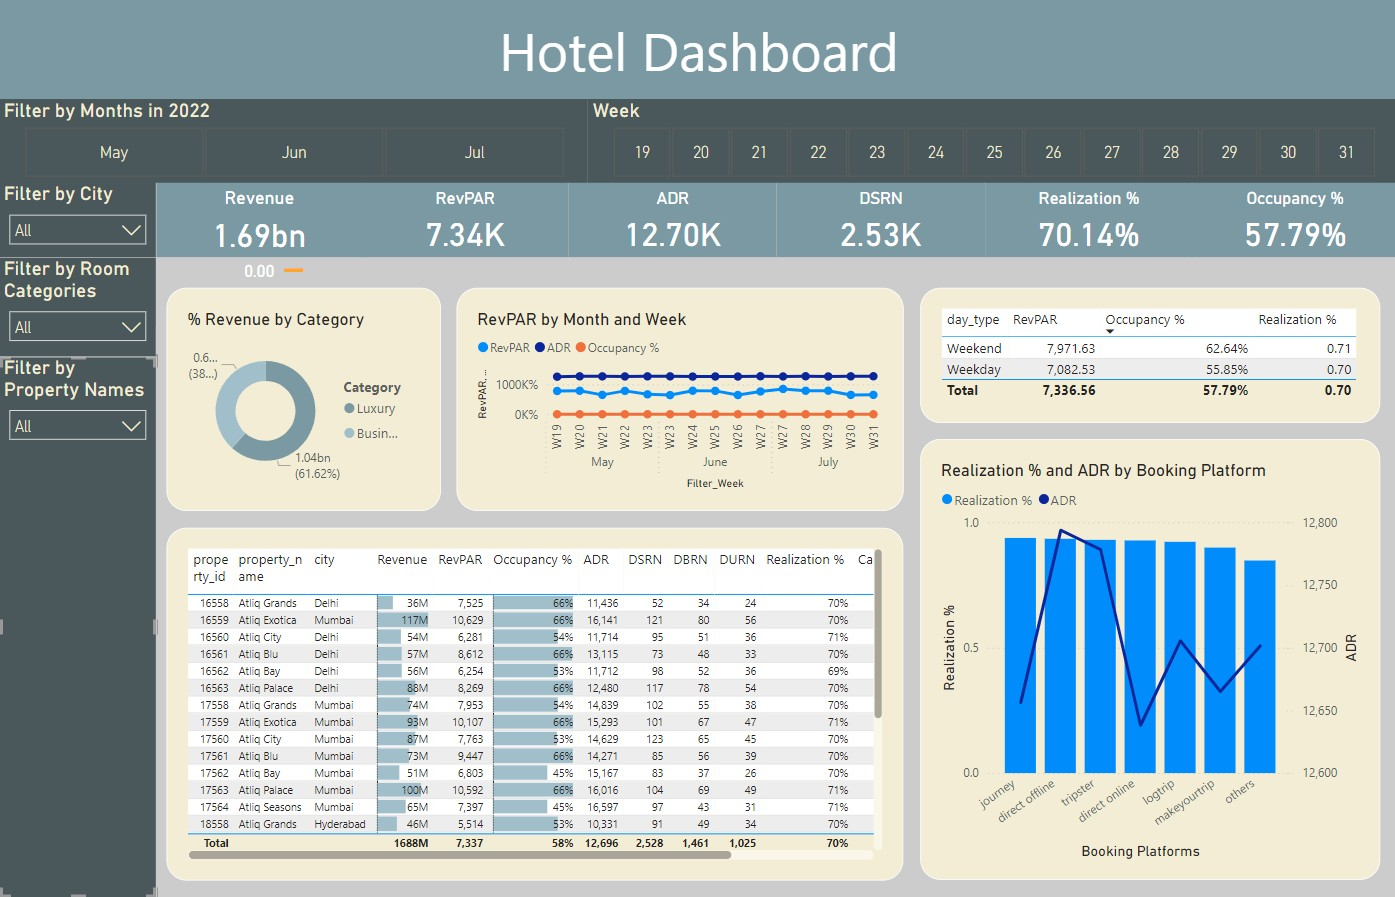

This screenshot's page, from the dashboard's own definition file:
{"tool":"powerbi","page":{"name":"Dashboard","canvas":[1400,900],"ordinal":0},"visuals":[{"type":"tableEx","fields":{"Values":["dim_hotel.property_id","dim_hotel.property_name","dim_hotel.city","key_measure.Revenue","key_measure.RevPar","key_measure.Occupancy %","key_measure.ADR","key_measure.DSRN","key_measure.DBRN","key_measure.DURN","key_measure.Realization %","key_measure.Cancellation %"]},"box":[167.1,528.6,737.1,352.9],"z":0},{"type":"slicer","title":"Filter by Property Names","fields":{"Values":["dim_hotel.property_name"]},"box":[0,357.1,157.1,542.9],"z":1000},{"type":"slicer","title":"Filter by Room Categories","fields":{"Values":["dim_rooms.room_class"]},"box":[0,258.6,157.1,98.6],"z":2000},{"type":"slicer","title":"Filter by Months in 2022","fields":{"Values":["dim_date.mmm yy"]},"box":[0,100,588.6,84.3],"z":3000},{"type":"card","title":"Revenue","fields":{"Values":["key_measure.Revenue"]},"box":[157.1,184.3,205.7,74.3],"z":4000},{"type":"slicer","title":"Week","fields":{"Values":["dim_date.week_n"]},"box":[588.6,100,811.4,84.3],"z":5000},{"type":"card","fields":{"Values":["key_measure.Revenue WoW Change %"]},"box":[157.1,258.6,205.7,27.1],"z":6000},{"type":"slicer","title":"Filter by City","fields":{"Values":["dim_hotel.city"]},"box":[0,184.3,157.1,74.3],"z":7000},{"type":"card","fields":{"Values":["key_measure.Icon Revenue Wow"]},"box":[280,255.7,30,30],"z":8000},{"type":"donutChart","title":"% Revenue by Category","fields":{"Category":["dim_hotel.category"],"Y":["key_measure.Revenue"]},"box":[167.1,288.6,274.3,222.9],"z":9000},{"type":"card","title":"RevPAR","fields":{"Values":["key_measure.RevPAR"]},"box":[362.9,184.3,207.1,74.3],"z":10000},{"type":"card","title":"Occupancy %","fields":{"Values":["key_measure.Occupancy %"]},"box":[1192.9,184.3,207.1,74.3],"z":11000},{"type":"card","title":"DSRN","fields":{"Values":["key_measure.DSRN"]},"box":[777.1,184.3,208.6,74.3],"z":12000},{"type":"card","title":"ADR","fields":{"Values":["key_measure.ADR"]},"box":[570,184.3,207.1,74.3],"z":13000},{"type":"card","title":"Realization %","fields":{"Values":["key_measure.Realization %"]},"box":[985.7,184.3,207.1,74.3],"z":14000},{"type":"shape","box":[0,0,1400,100],"z":15000},{"type":"lineChart","title":"RevPAR by Month and Week","fields":{"Category":["dim_date.mmm yy.Variation.Date Hierarchy.Month","dim_date.Filter_Week"],"Y":["key_measure.RevPAR","key_measure.ADR","key_measure.Occupancy %"]},"box":[457.1,288.6,447.1,222.9],"z":16000},{"type":"lineStackedColumnComboChart","title":"Realization % and ADR by Booking Platform","fields":{"Category":["fact_bookings.booking_platform"],"Y":["key_measure.Realization %"],"Y2":["key_measure.ADR"]},"box":[921.2,492.5,460,388.8],"z":17000},{"type":"barChart","title":"Occupancy % by City","fields":{"Category":["dim_hotel.city"],"Y":["key_measure.Occupancy %"]},"box":[921.2,288.8,460,186.2],"z":18000},{"type":"image","box":[22.5,11.2,76.2,77.5],"z":24000}]}

Visuals, with their boxes in screenshot pixels (x1, y1, x2, y2), scaled from the page's 1400x900 canvas onto the 1395x897 screenshot:
tableEx - dim_hotel.property_id x dim_hotel.property_name: [167, 527, 901, 879]
"Filter by Property Names" slicer: [0, 356, 157, 896]
"Filter by Room Categories" slicer: [0, 258, 157, 356]
"Filter by Months in 2022" slicer: [0, 100, 586, 184]
"Revenue" card: [157, 184, 362, 258]
"Week" slicer: [586, 100, 1394, 184]
card - key_measure.Revenue WoW Change %: [157, 258, 362, 285]
"Filter by City" slicer: [0, 184, 157, 258]
card - key_measure.Icon Revenue Wow: [279, 255, 309, 285]
"% Revenue by Category" donutChart: [167, 288, 440, 510]
"RevPAR" card: [362, 184, 568, 258]
"Occupancy %" card: [1189, 184, 1394, 258]
"DSRN" card: [774, 184, 982, 258]
"ADR" card: [568, 184, 774, 258]
"Realization %" card: [982, 184, 1189, 258]
shape: [0, 0, 1394, 100]
"RevPAR by Month and Week" lineChart: [455, 288, 901, 510]
"Realization % and ADR by Booking Platform" lineStackedColumnComboChart: [918, 491, 1376, 878]
"Occupancy % by City" barChart: [918, 288, 1376, 473]
image: [22, 11, 98, 88]
